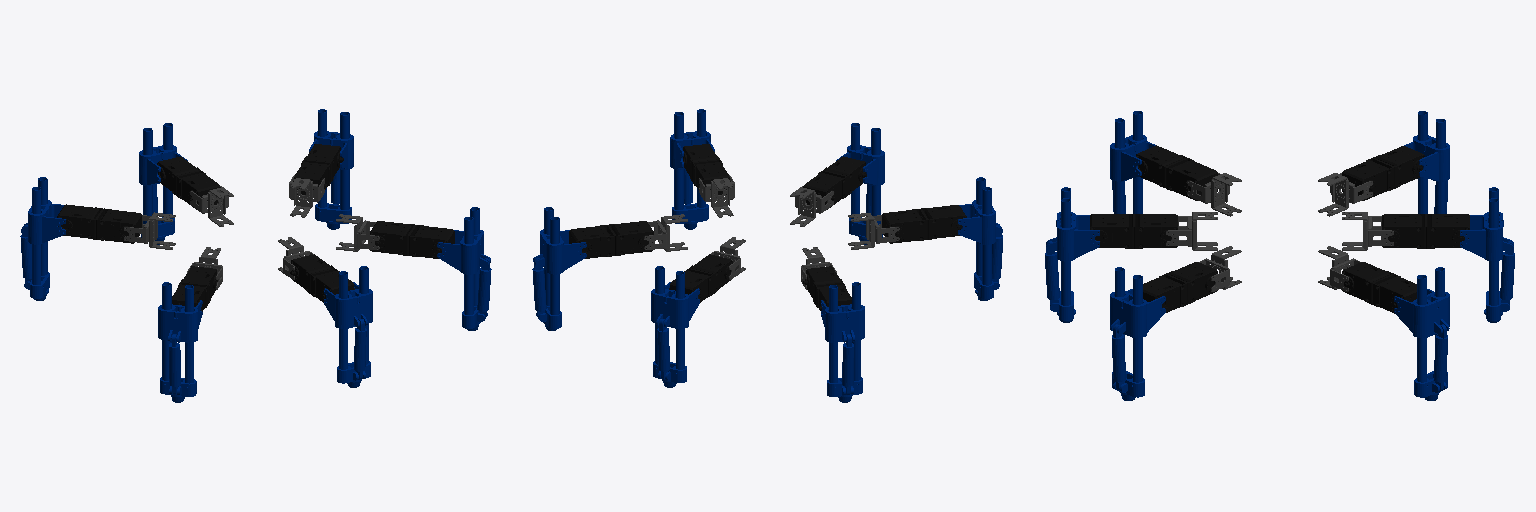
robot.urdf — pexod:
<?xml version="1.0" ?>
<robot name="pexod" xmlns:xacro="http://www.ros.org/wiki/xacro">
  <!-- MATERIALS -->
  <material name="Blue">
    <color rgba="0 0.243 0.4549 1"/>
  </material>
    <material name="DarkBlue">
      <color rgba="0 0.1294 0.2784 1"/>
    </material>
  <material name="Red">
    <color rgba="1 0 0 1"/>
  </material>
  <material name="Green">
    <color rgba="0 1 0 1"/>
  </material>
  <material name="Yellow">
    <color rgba="1 1 0 1"/>
  </material>
  <material name="LightGrey">
    <color rgba="0.3 0.3 0.3 1.0"/>
  </material>
    <material name="GreyBlue">
      <color rgba="0. 0.2 0.5 1.0"/>
    </material>
  <material name="Dark">
      <color rgba="0.1 0.1 0.1 1.0"/>
    </material>
  <!-- END OF MATERIALS -->

  <!-- TORSO -->
  <link name="base_link">
    <visual>
      <origin rpy="0 0 0" xyz="0 0 0.017"/>
      <geometry>
        <mesh filename="package://hexapod_v2_description/asm_body_V1.stl"/>
      </geometry>
    <material name="Dark"/>
    </visual>
    <collision>
      <origin rpy="0 0 0" xyz="0 0 0"/>
      <geometry>
        <box size="0.228 0.181 0.042"/>
      </geometry>
    </collision>
    <inertial>
      <!-- CENTER OF MASS -->
      <origin rpy="0 0 0" xyz="0 0 0"/>
      <mass value="0.6791"/>
      <!-- box inertia: 1/12*m(y^2+z^2), ... -->
      <inertia ixx="0.001854" ixy="0" ixz="0" iyy="0.003218" iyz="0" izz="0.004888"/>
    </inertial>
  </link>
  <!-- XACRO MACRO FOR LEGS LINKS/JOINTS -->
  <!-- END OF LEG LINKS/JOINTS -->
  <joint name="body_leg_0" type="revolute">
    <parent link="base_link"/>
    <child link="leg_0_1"/>
    <limit effort="4.0" lower="-1.57079632679" upper="1.57079632679" velocity="5.0"/>
    <origin rpy="0 0 -0.7864" xyz="0.093 -0.053 0"/>
    <!-- <xacro:if value="${index == 5 or index == 4 or index == 3}">
                <axis xyz="0 0 1"/>
            </xacro:if>
            <xacro:if value="${index == 2 or index == 1 or index == 0}"> -->
    <axis xyz="0 0 1"/>
    <!-- </xacro:if> -->
    <dynamics damping="0.0"/>
  </joint>
  <link name="leg_0_1">
    <visual>
      <origin rpy="0 0 -1.5707963267948966" xyz="0.0 0 0"/>
      <geometry>
	<mesh filename="package://hexapod_v2_description/seg_0.stl"/>
      </geometry>
    <material name="LightGrey"/>
    </visual>
    <collision>
      <origin rpy="0 0 0" xyz="0.028 0 0"/>
      <geometry>
        <box size="0.061 0.041 0.041"/>
      </geometry>
    </collision>
    <inertial>
      <!-- CENTER OF MASS -->
      <origin rpy="0 0 0" xyz="0.028 0 0"/>
      <mass value="0.0199"/>
      <!-- box inertia: 1/12*m(y^2+z^2), ... -->
      <inertia ixx="6.158e-06" ixy="0" ixz="0" iyy="5.830e-06" iyz="0" izz="5.830e-06"/>
    </inertial>
  </link>
  <joint name="leg_0_1_2" type="revolute">
    <parent link="leg_0_1"/>
    <child link="leg_0_2"/>
    <limit effort="4.0" lower="-1.570796" upper="1.570796" velocity="5.0"/>
    <origin rpy="0 0 0" xyz="0.056 0 0"/>
    <axis xyz="0 1 0"/>
    <dynamics damping="0.0"/>
  </joint>
  <link name="leg_0_2">
    <visual>
      <origin rpy="0 0 -1.570796" xyz="0 0 0"/>
      <geometry>
        <mesh filename="package://hexapod_v2_description/seg_1.stl"/>
      </geometry>
      <material name="Dark"/>
    </visual>
    <collision>
      <origin rpy="0 0 0" xyz="0.0405 0 0"/>
      <geometry>
        <box size="0.0835 0.0424 0.0285"/>
      </geometry>
    </collision>
    <inertial>
      <!-- CENTER OF MASS -->
      <origin rpy="0 0 0" xyz="0.0405 0 0"/>
      <mass value="0.1872"/>
      <!-- box inertia: 1/12*m(y^2+z^2), ... -->
      <inertia ixx="3.154e-05" ixy="0" ixz="0" iyy="1.896e-04" iyz="0" izz="1.972e-04"/>
    </inertial>
  </link>
  <joint name="leg_0_2_3" type="revolute">
    <parent link="leg_0_2"/>
    <child link="leg_0_3"/>
    <limit effort="4.0" lower="-1.570796" upper="1.570796" velocity="5.0"/>
    <origin rpy="0 0 0" xyz="0.081 0 0"/>
    <axis xyz="0 -1 0"/>
    <dynamics damping="0.0"/>
  </joint>
  <link name="leg_0_3">
    <visual>
      <origin rpy="0 0 0" xyz="0.039 0 -0.027"/>
      <geometry>
        <mesh filename="package://hexapod_v2_description/seg_2.stl"/>
      </geometry>
      <material name="GreyBlue"/>
    </visual>
    <collision>
      <origin rpy="0 0 0" xyz="0.039 0 -0.03195"/>
      <geometry>
        <box size="0.026 0.026 0.158"/>
      </geometry>
    </collision>
    <collision>
      <origin rpy="0 0 0" xyz="0.039 0 -0.11095"/>
      <geometry>
        <sphere radius="0.025"/>
      </geometry>
      <material name="GreyBlue"/>
    </collision>
    <inertial>
      <!-- CENTER OF MASS -->
      <origin rpy="0 0 0" xyz="0.039 0 -0.03195"/>
      <mass value="0.0911"/>
      <!-- box inertia: 1/12*m(y^2+z^2), ... -->
      <inertia ixx="1.668e-04" ixy="0" ixz="9.703e-06" iyy="1.605e-04" iyz="0" izz="2.741e-05"/>
    </inertial>
  </link>

  <joint name="body_leg_1" type="revolute">
    <parent link="base_link"/>
    <child link="leg_1_1"/>
    <limit effort="4.0" lower="-1.57079632679" upper="1.57079632679" velocity="5.0"/>
    <origin rpy="0 0 -1.5708" xyz="0.00 -0.075 0"/>
    <!-- <xacro:if value="${index == 5 or index == 4 or index == 3}">
                <axis xyz="0 0 1"/>
            </xacro:if>
            <xacro:if value="${index == 2 or index == 1 or index == 0}"> -->
    <axis xyz="0 0 1"/>
    <!-- </xacro:if> -->
    <dynamics damping="0.0"/>
  </joint>
  <link name="leg_1_1">
    <visual>
      <origin rpy="0 0 -1.5707963267948966" xyz="0.0 0 0"/>
      <geometry>
	<mesh filename="package://hexapod_v2_description/seg_0.stl"/>
      </geometry>
      <material name="LightGrey"/>
    </visual>
    <collision>
      <origin rpy="0 0 0" xyz="0.028 0.00 0"/>
      <geometry>
        <box size="0.061 0.041 0.041"/>
      </geometry>
    </collision>
    <inertial>
      <!-- CENTER OF MASS -->
      <origin rpy="0 0 0" xyz="0.028 0 0"/>
      <mass value="0.0199"/>
      <!-- box inertia: 1/12*m(y^2+z^2), ... -->
      <inertia ixx="6.158e-06" ixy="0" ixz="0" iyy="5.830e-06" iyz="0" izz="5.830e-06"/>
    </inertial>
  </link>
  <joint name="leg_1_1_2" type="revolute">
    <parent link="leg_1_1"/>
    <child link="leg_1_2"/>
    <limit effort="4.0" lower="-1.570796" upper="1.570796" velocity="5.0"/>
    <origin rpy="0 0 0" xyz="0.056 0 0"/>
    <axis xyz="0 1 0"/>
    <dynamics damping="0.0"/>
  </joint>
  <link name="leg_1_2">
    <visual>
      <origin rpy="0 0 -1.570796" xyz="0 0 0"/>
      <geometry>
        <mesh filename="package://hexapod_v2_description/seg_1.stl"/>
      </geometry>
      <material name="Dark"/>
    </visual>
    <collision>
      <origin rpy="0 0 0" xyz="0.0405 0 0"/>
      <geometry>
        <box size="0.0835 0.0424 0.0285"/>
      </geometry>
    </collision>
    <inertial>
      <!-- CENTER OF MASS -->
      <origin rpy="0 0 0" xyz="0.0405 0 0"/>
      <mass value="0.1872"/>
      <!-- box inertia: 1/12*m(y^2+z^2), ... -->
      <inertia ixx="3.154e-05" ixy="0" ixz="0" iyy="1.896e-04" iyz="0" izz="1.972e-04"/>
    </inertial>
  </link>
  <joint name="leg_1_2_3" type="revolute">
    <parent link="leg_1_2"/>
    <child link="leg_1_3"/>
    <limit effort="4.0" lower="-1.570796" upper="1.570796" velocity="5.0"/>
    <origin rpy="0 0 0" xyz="0.081 0 0"/>
    <axis xyz="0 -1 0"/>
    <dynamics damping="0.0"/>
  </joint>
  <link name="leg_1_3">
    <visual>
      <origin rpy="0 0 0" xyz="0.039 0 -0.027"/>
      <geometry>
        <mesh filename="package://hexapod_v2_description/seg_2.stl"/>
      </geometry>
      <material name="GreyBlue"/>
    </visual>
    <collision>
      <origin rpy="0 0 0" xyz="0.039 0 -0.03195"/>
      <geometry>
        <box size="0.026 0.026 0.158"/>
      </geometry>
    </collision>
    <collision>
      <origin rpy="0 0 0" xyz="0.039 0 -0.11095"/>
      <geometry>
        <sphere radius="0.025"/>
      </geometry>
      <material name="GreyBlue"/>
    </collision>
    <inertial>
      <!-- CENTER OF MASS -->
      <origin rpy="0 0 0" xyz="0.039 0 -0.03195"/>
      <mass value="0.0911"/>
      <!-- box inertia: 1/12*m(y^2+z^2), ... -->
      <inertia ixx="1.668e-04" ixy="0" ixz="9.703e-06" iyy="1.605e-04" iyz="0" izz="2.741e-05"/>
    </inertial>
  </link>

  <joint name="body_leg_2" type="revolute">
    <parent link="base_link"/>
    <child link="leg_2_1"/>
    <limit effort="4.0" lower="-1.57079632679" upper="1.57079632679" velocity="5.0"/> <!-- N.m and rad/s? -->
    <origin rpy="0 0 -2.3562" xyz="-0.093 -0.053 0"/>
    <!-- <xacro:if value="${index == 5 or index == 4 or index == 3}">
                <axis xyz="0 0 1"/>
            </xacro:if>
            <xacro:if value="${index == 2 or index == 1 or index == 0}"> -->
    <axis xyz="0 0 1"/>
    <!-- </xacro:if> -->
    <dynamics damping="0.0"/>
  </joint>
  <link name="leg_2_1">
    <visual>
      <origin rpy="0 0 -1.5707963267948966" xyz="0.0 0 0"/>
      <geometry>
	<mesh filename="package://hexapod_v2_description/seg_0.stl"/>
      </geometry>
      <material name="LightGrey"/>
    </visual>
    <collision>
      <origin rpy="0 0 0" xyz="0.028 0 0"/>
      <geometry>
        <box size="0.061 0.041 0.041"/>
      </geometry>
    </collision>
    <inertial>
      <!-- CENTER OF MASS -->
      <origin rpy="1.57079632679 0 0" xyz="0.00 0.028 0"/>
      <mass value="0.0199"/>
      <!-- box inertia: 1/12*m(y^2+z^2), ... -->
      <inertia ixx="6.158e-06" ixy="0" ixz="0" iyy="5.830e-06" iyz="0" izz="5.830e-06"/>
    </inertial>
  </link>
  <joint name="leg_2_1_2" type="revolute">
    <parent link="leg_2_1"/>
    <child link="leg_2_2"/>
    <limit effort="4.0" lower="-1.570796" upper="1.570796" velocity="5.0"/>
    <origin rpy="0 0 0" xyz="0.056 0 0"/>
    <axis xyz="0 1 0"/>
    <dynamics damping="0.0"/>
  </joint>
  <link name="leg_2_2">
    <visual>
      <origin rpy="0 0 -1.570796" xyz="0 0 0"/>
      <geometry>
        <mesh filename="package://hexapod_v2_description/seg_1.stl"/>
      </geometry>
      <material name="Dark"/>
    </visual>
    <collision>
      <origin rpy="0 0 0" xyz="0.0405 0 0"/>
      <geometry>
        <box size="0.0835 0.0424 0.0285"/>
      </geometry>
    </collision>
    <inertial>
      <!-- CENTER OF MASS -->
      <origin rpy="0 0 0" xyz="0.0405 0 0"/>
      <mass value="0.1872"/>
      <!-- box inertia: 1/12*m(y^2+z^2), ... -->
      <inertia ixx="3.154e-05" ixy="0" ixz="0" iyy="1.896e-04" iyz="0" izz="1.972e-04"/>
    </inertial>
  </link>
  <joint name="leg_2_2_3" type="revolute">
    <parent link="leg_2_2"/>
    <child link="leg_2_3"/>
    <limit effort="4.0" lower="-1.570796" upper="1.570796" velocity="5.0"/>
    <origin rpy="0 0 0" xyz="0.081 0 0"/>
    <axis xyz="0 -1 0"/>
    <dynamics damping="0.0"/>
  </joint>
  <link name="leg_2_3">
    <visual>
      <origin rpy="0 0 0" xyz="0.039 0 -0.027"/>
      <geometry>
        <mesh filename="package://hexapod_v2_description/seg_2.stl"/>
      </geometry>
      <material name="GreyBlue"/>
    </visual>
    <collision>
      <origin rpy="0 0 0" xyz="0.039 0 -0.03195"/>
      <geometry>
        <box size="0.026 0.026 0.158"/>
      </geometry>
    </collision>
    <collision>
      <origin rpy="0 0 0" xyz="0.039 0 -0.11095"/>
      <geometry>
        <sphere radius="0.025"/>
      </geometry>
      <material name="GreyBlue"/>
    </collision>
    <inertial>
      <!-- CENTER OF MASS -->
      <origin rpy="0 0 0" xyz="0.039 0 -0.03195"/>
      <mass value="0.0911"/>
      <!-- box inertia: 1/12*m(y^2+z^2), ... -->
      <inertia ixx="1.668e-04" ixy="0" ixz="9.703e-06" iyy="1.605e-04" iyz="0" izz="2.741e-05"/>
    </inertial>
  </link>
  <joint name="body_leg_3" type="revolute">
    <parent link="base_link"/>
    <child link="leg_3_1"/>
    <limit effort="4.0" lower="-1.57079632679" upper="1.57079632679" velocity="5.0"/>
    <origin rpy="0 0 2.3516" xyz="-0.093 0.053 0"/>
    <!-- <xacro:if value="${index == 5 or index == 4 or index == 3}">
                <axis xyz="0 0 1"/>
            </xacro:if>
            <xacro:if value="${index == 2 or index == 1 or index == 0}"> -->
    <axis xyz="0 0 1"/>
    <!-- </xacro:if> -->
    <dynamics damping="0.0"/>
  </joint>
  <link name="leg_3_1">
    <visual>
      <origin rpy="0 0 -1.5707963267948966" xyz="0.0 0 0"/>
      <geometry>
	<mesh filename="package://hexapod_v2_description/seg_0.stl"/>
      </geometry>
      <material name="LightGrey"/>
    </visual>
    <collision>
      <origin rpy="0 0 0" xyz="0.028 0 0"/>
      <geometry>
        <box size="0.061 0.041 0.041"/>
      </geometry>
    </collision>
    <inertial>
      <!-- CENTER OF MASS -->
      <origin rpy="0 0 0" xyz="0.028 0 0"/>
      <mass value="0.0199"/>
      <!-- box inertia: 1/12*m(y^2+z^2), ... -->
      <inertia ixx="6.158e-06" ixy="0" ixz="0" iyy="5.830e-06" iyz="0" izz="5.830e-06"/>
    </inertial>
  </link>
  <joint name="leg_3_1_2" type="revolute">
    <parent link="leg_3_1"/>
    <child link="leg_3_2"/>
    <limit effort="4.0" lower="-1.570796" upper="1.570796" velocity="5.0"/>
    <origin rpy="0 0 0" xyz="0.056 0 0"/>
    <axis xyz="0 1 0"/>
    <dynamics damping="0.0"/>
  </joint>
  <link name="leg_3_2">
    <visual>
      <origin rpy="0 0 -1.570796" xyz="0 0 0"/>
      <geometry>
        <mesh filename="package://hexapod_v2_description/seg_1.stl"/>
      </geometry>
      <material name="Dark"/>
    </visual>
    <collision>
      <origin rpy="0 0 0" xyz="0.0405 0 0"/>
      <geometry>
        <box size="0.0835 0.0424 0.0285"/>
      </geometry>
    </collision>
    <inertial>
      <!-- CENTER OF MASS -->
      <origin rpy="0 0 0" xyz="0.0405 0 0"/>
      <mass value="0.1872"/>
      <!-- box inertia: 1/12*m(y^2+z^2), ... -->
      <inertia ixx="3.154e-05" ixy="0" ixz="0" iyy="1.896e-04" iyz="0" izz="1.972e-04"/>
    </inertial>
  </link>
  <joint name="leg_3_2_3" type="revolute">
    <parent link="leg_3_2"/>
    <child link="leg_3_3"/>
    <limit effort="4.0" lower="-1.570796" upper="1.570796" velocity="5.0"/>
    <origin rpy="0 0 0" xyz="0.081 0 0"/>
    <axis xyz="0 -1 0"/>
    <dynamics damping="0.0"/>
  </joint>
  <link name="leg_3_3">
    <visual>
      <origin rpy="0 0 0" xyz="0.039 0 -0.027"/>
      <geometry>
        <mesh filename="package://hexapod_v2_description/seg_2.stl"/>
      </geometry>
      <material name="GreyBlue"/>
    </visual>
    <collision>
      <origin rpy="0 0 0" xyz="0.039 0 -0.03195"/>
      <geometry>
        <box size="0.026 0.026 0.158"/>
      </geometry>
    </collision>
    <collision>
      <origin rpy="0 0 0" xyz="0.039 0 -0.11095"/>
      <geometry>
        <sphere radius="0.025"/>
      </geometry>
      <material name="GreyBlue"/>
    </collision>
    <inertial>
      <!-- CENTER OF MASS -->
      <origin rpy="0 0 0" xyz="0.039 0 -0.03195"/>
      <mass value="0.0911"/>
      <!-- box inertia: 1/12*m(y^2+z^2), ... -->
      <inertia ixx="1.668e-04" ixy="0" ixz="9.703e-06" iyy="1.605e-04" iyz="0" izz="2.741e-05"/>
    </inertial>
  </link>
  <joint name="body_leg_4" type="revolute">
    <parent link="base_link"/>
    <child link="leg_4_1"/>
    <limit effort="4.0" lower="-1.57079632679" upper="1.57079632679" velocity="5.0"/>
    <origin rpy="0 0 1.5708" xyz=" 0.00 0.075 0"/>
    <!-- <xacro:if value="${index == 5 or index == 4 or index == 3}">
                <axis xyz="0 0 1"/>
            </xacro:if>
            <xacro:if value="${index == 2 or index == 1 or index == 0}"> -->
    <axis xyz="0 0 1"/>
    <!-- </xacro:if> -->
    <dynamics damping="0.0"/>
  </joint>
  <link name="leg_4_1">
    <visual>
      <origin rpy="0 0 -1.5707963267948966" xyz="0.0 0 0"/>
      <geometry>
	<mesh filename="package://hexapod_v2_description/seg_0.stl"/>
      </geometry>
      <material name="LightGrey"/>
    </visual>
    <collision>
      <origin rpy="0 0 0" xyz="0.028 0 0"/>
      <geometry>
        <box size="0.061 0.041 0.041"/>
      </geometry>
    </collision>
    <inertial>
      <!-- CENTER OF MASS -->
      <origin rpy="0 0 0" xyz="0.028 0 0"/>
      <mass value="0.0199"/>
      <!-- box inertia: 1/12*m(y^2+z^2), ... -->
      <inertia ixx="6.158e-06" ixy="0" ixz="0" iyy="5.830e-06" iyz="0" izz="5.830e-06"/>
    </inertial>
  </link>
  <joint name="leg_4_1_2" type="revolute">
    <parent link="leg_4_1"/>
    <child link="leg_4_2"/>
    <limit effort="4.0" lower="-1.570796" upper="1.570796" velocity="5.0"/>
    <origin rpy="0 0 0" xyz="0.056 0 0"/>
    <axis xyz="0 1 0"/>
    <dynamics damping="0.0"/>
  </joint>
  <link name="leg_4_2">
    <visual>
      <origin rpy="0 0 -1.570796" xyz="0 0 0"/>
      <geometry>
        <mesh filename="package://hexapod_v2_description/seg_1.stl"/>
      </geometry>
      <material name="Dark"/>
    </visual>
    <collision>
      <origin rpy="0 0 0" xyz="0.0405 0 0"/>
      <geometry>
        <box size="0.0835 0.0424 0.0285"/>
      </geometry>
    </collision>
    <inertial>
      <!-- CENTER OF MASS -->
      <origin rpy="0 0 0" xyz="0.0405 0 0"/>
      <mass value="0.1872"/>
      <!-- box inertia: 1/12*m(y^2+z^2), ... -->
      <inertia ixx="3.154e-05" ixy="0" ixz="0" iyy="1.896e-04" iyz="0" izz="1.972e-04"/>
    </inertial>
  </link>
  <joint name="leg_4_2_3" type="revolute">
    <parent link="leg_4_2"/>
    <child link="leg_4_3"/>
    <limit effort="4.0" lower="-1.570796" upper="1.570796" velocity="5.0"/>
    <origin rpy="0 0 0" xyz="0.081 0 0"/>
    <axis xyz="0 -1 0"/>
    <dynamics damping="0.0"/>
  </joint>
  <link name="leg_4_3">
    <visual>
      <origin rpy="0 0 0" xyz="0.039 0 -0.027"/>
      <geometry>
        <mesh filename="package://hexapod_v2_description/seg_2.stl"/>
      </geometry>
      <material name="GreyBlue"/>
    </visual>
    <collision>
      <origin rpy="0 0 0" xyz="0.039 0 -0.03195"/>
      <geometry>
        <box size="0.026 0.026 0.158"/>
      </geometry>
    </collision>
    <collision>
      <origin rpy="0 0 0" xyz="0.039 0 -0.11095"/>
      <geometry>
        <sphere radius="0.025"/>
      </geometry>
      <material name="GreyBlue"/>
    </collision>
    <inertial>
      <!-- CENTER OF MASS -->
      <origin rpy="0 0 0" xyz="0.039 0 -0.03195"/>
      <mass value="0.0911"/>
      <!-- box inertia: 1/12*m(y^2+z^2), ... -->
      <inertia ixx="1.668e-04" ixy="0" ixz="9.703e-06" iyy="1.605e-04" iyz="0" izz="2.741e-05"/>
    </inertial>
  </link>
  <joint name="body_leg_5" type="revolute">
    <parent link="base_link"/>
    <child link="leg_5_1"/>
    <limit effort="4.0" lower="-1.57079632679" upper="1.57079632679" velocity="5.0"/>
    <origin rpy="0 0 0.7854" xyz="0.093 0.053 0"/>
    <!-- <xacro:if value="${index == 5 or index == 4 or index == 3}">
                <axis xyz="0 0 1"/>
            </xacro:if>
            <xacro:if value="${index == 2 or index == 1 or index == 0}"> -->
    <axis xyz="0 0 1"/>
    <!-- </xacro:if> -->
    <dynamics damping="0.0"/>
  </joint>
  <link name="leg_5_1">
    <visual>
      <origin rpy="0 0 -1.5707963267948966" xyz="0.0 0 0"/>
      <geometry>
	<mesh filename="package://hexapod_v2_description/seg_0.stl"/>
      </geometry>
      <material name="LightGrey"/>
    </visual>
    <collision>
      <origin rpy="0 0 0" xyz="0.028 0 0"/>
      <geometry>
        <box size="0.061 0.041 0.041"/>
      </geometry>
    </collision>
    <inertial>
      <!-- CENTER OF MASS -->
      <origin rpy="0 0 0" xyz="0.028 0 0"/>
      <mass value="0.0199"/>
      <!-- box inertia: 1/12*m(y^2+z^2), ... -->
      <inertia ixx="6.158e-06" ixy="0" ixz="0" iyy="5.830e-06" iyz="0" izz="5.830e-06"/>
    </inertial>
  </link>
  <joint name="leg_5_1_2" type="revolute">
    <parent link="leg_5_1"/>
    <child link="leg_5_2"/>
    <limit effort="4.0" lower="-1.570796" upper="1.570796" velocity="5.0"/>
    <origin rpy="0 0 0" xyz="0.056 0 0"/>
    <axis xyz="0 1 0"/>
    <dynamics damping="0.0"/>
  </joint>
  <link name="leg_5_2">
    <visual>
      <origin rpy="0 0 -1.570796" xyz="0 0 0"/>
      <geometry>
        <mesh filename="package://hexapod_v2_description/seg_1.stl"/>
      </geometry>
      <material name="Dark"/>
    </visual>
    <collision>
      <origin rpy="0 0 0" xyz="0.0405 0 0"/>
      <geometry>
        <box size="0.0835 0.0424 0.0285"/>
      </geometry>
    </collision>
    <inertial>
      <!-- CENTER OF MASS -->
      <origin rpy="0 0 0" xyz="0.0405 0 0"/>
      <mass value="0.1872"/>
      <!-- box inertia: 1/12*m(y^2+z^2), ... -->
      <inertia ixx="3.154e-05" ixy="0" ixz="0" iyy="1.896e-04" iyz="0" izz="1.972e-04"/>
    </inertial>
  </link>
  <joint name="leg_5_2_3" type="revolute">
    <parent link="leg_5_2"/>
    <child link="leg_5_3"/>
    <limit effort="4.0" lower="-1.570796" upper="1.570796" velocity="5.0"/>
    <origin rpy="0 0 0" xyz="0.081 0 0"/>
    <axis xyz="0 -1 0"/>
    <dynamics damping="0.0"/>
  </joint>
  <link name="leg_5_3">
    <visual>
      <origin rpy="0 0 0" xyz="0.039 0 -0.027"/>
      <geometry>
        <mesh filename="package://hexapod_v2_description/seg_2.stl"/>
      </geometry>
      <material name="GreyBlue"/>
    </visual>
    <collision>
      <origin rpy="0 0 0" xyz="0.039 0 -0.03195"/>
      <geometry>
        <box size="0.026 0.026 0.158"/>
      </geometry>
    </collision>
    <collision>
      <origin rpy="0 0 0" xyz="0.039 0 -0.11095"/>
      <geometry>
        <sphere radius="0.025"/>
      </geometry>
      <material name="GreyBlue"/>
    </collision>
    <inertial>
      <!-- CENTER OF MASS -->
      <origin rpy="0 0 0" xyz="0.039 0 -0.03195"/>
      <mass value="0.0911"/>
      <!-- box inertia: 1/12*m(y^2+z^2), ... -->
      <inertia ixx="1.668e-04" ixy="0" ixz="9.703e-06" iyy="1.605e-04" iyz="0" izz="2.741e-05"/>
    </inertial>
  </link>
  <!-- END OF LEG LINKS/JOINTS -->
</robot>

--- Facts derived from the render (not from the file) ---
3 views of the same robot in one strip: view 1: azimuth 30°, elevation 25°; view 2: azimuth 150°, elevation 25°; view 3: azimuth 270°, elevation 25° (orthographic).
Robot: pexod — 19 links, 18 joints (18 revolute); root link base_link; default pose: all joints at 0.
Visible links, largest first — view 1: leg_2_3, leg_1_3, leg_0_3, leg_3_3, leg_5_3, leg_4_3, leg_3_2, leg_0_2, leg_4_2, leg_1_2, leg_5_2, leg_2_2 (+5 smaller); view 2: leg_3_3, leg_4_3, leg_5_3, leg_2_3, leg_0_3, leg_1_3, leg_2_2, leg_5_2, leg_1_2, leg_4_2, leg_0_2, leg_3_2 (+5 smaller); view 3: leg_5_3, leg_0_3, leg_1_3, leg_4_3, leg_4_2, leg_1_2, leg_2_3, leg_3_3, leg_3_2, leg_2_2, leg_5_2, leg_0_2 (+6 smaller).
Boxes of the visible links, <box> form: leg_2_3: <box>158,282,202,402</box>; leg_1_3: <box>324,266,372,387</box>; leg_0_3: <box>437,207,491,330</box>; leg_3_3: <box>20,177,65,300</box>; leg_5_3: <box>309,109,353,229</box>; leg_4_3: <box>139,123,187,244</box>; leg_3_2: <box>57,204,141,243</box>; leg_0_2: <box>370,221,454,258</box>; leg_4_2: <box>157,156,220,209</box>; leg_1_2: <box>290,254,354,302</box>; leg_5_2: <box>293,144,343,194</box>; leg_2_2: <box>172,266,217,311</box>; leg_3_3: <box>821,282,864,402</box>; leg_4_3: <box>651,266,699,387</box>; leg_5_3: <box>532,207,586,330</box>; leg_2_3: <box>958,177,1002,300</box>; leg_0_3: <box>670,109,714,229</box>; leg_1_3: <box>836,123,884,244</box>; leg_2_2: <box>882,205,966,243</box>; leg_5_2: <box>569,221,653,258</box>; leg_1_2: <box>803,156,866,209</box>; leg_4_2: <box>669,254,732,302</box>; leg_0_2: <box>683,144,730,194</box>; leg_3_2: <box>803,266,851,310</box>; leg_5_3: <box>1394,267,1449,400</box>; leg_0_3: <box>1110,267,1165,400</box>; leg_1_3: <box>1045,187,1099,322</box>; leg_4_3: <box>1460,187,1514,322</box>; leg_4_2: <box>1382,214,1469,248</box>; leg_1_2: <box>1090,214,1177,248</box>; leg_2_3: <box>1110,111,1155,213</box>; leg_3_3: <box>1404,111,1449,213</box>; leg_3_2: <box>1342,146,1424,200</box>; leg_2_2: <box>1136,145,1217,200</box>; leg_5_2: <box>1342,262,1416,313</box>; leg_0_2: <box>1143,262,1217,312</box>.
Bounding box of the posed robot: 0.4786 × 0.553 × 0.163 m (x, y, z).
Meshes: 4 distinct files referenced, 18 mesh visuals loaded (3 binary STL); not drawn: 1 (reference not matched to a file when rendering).